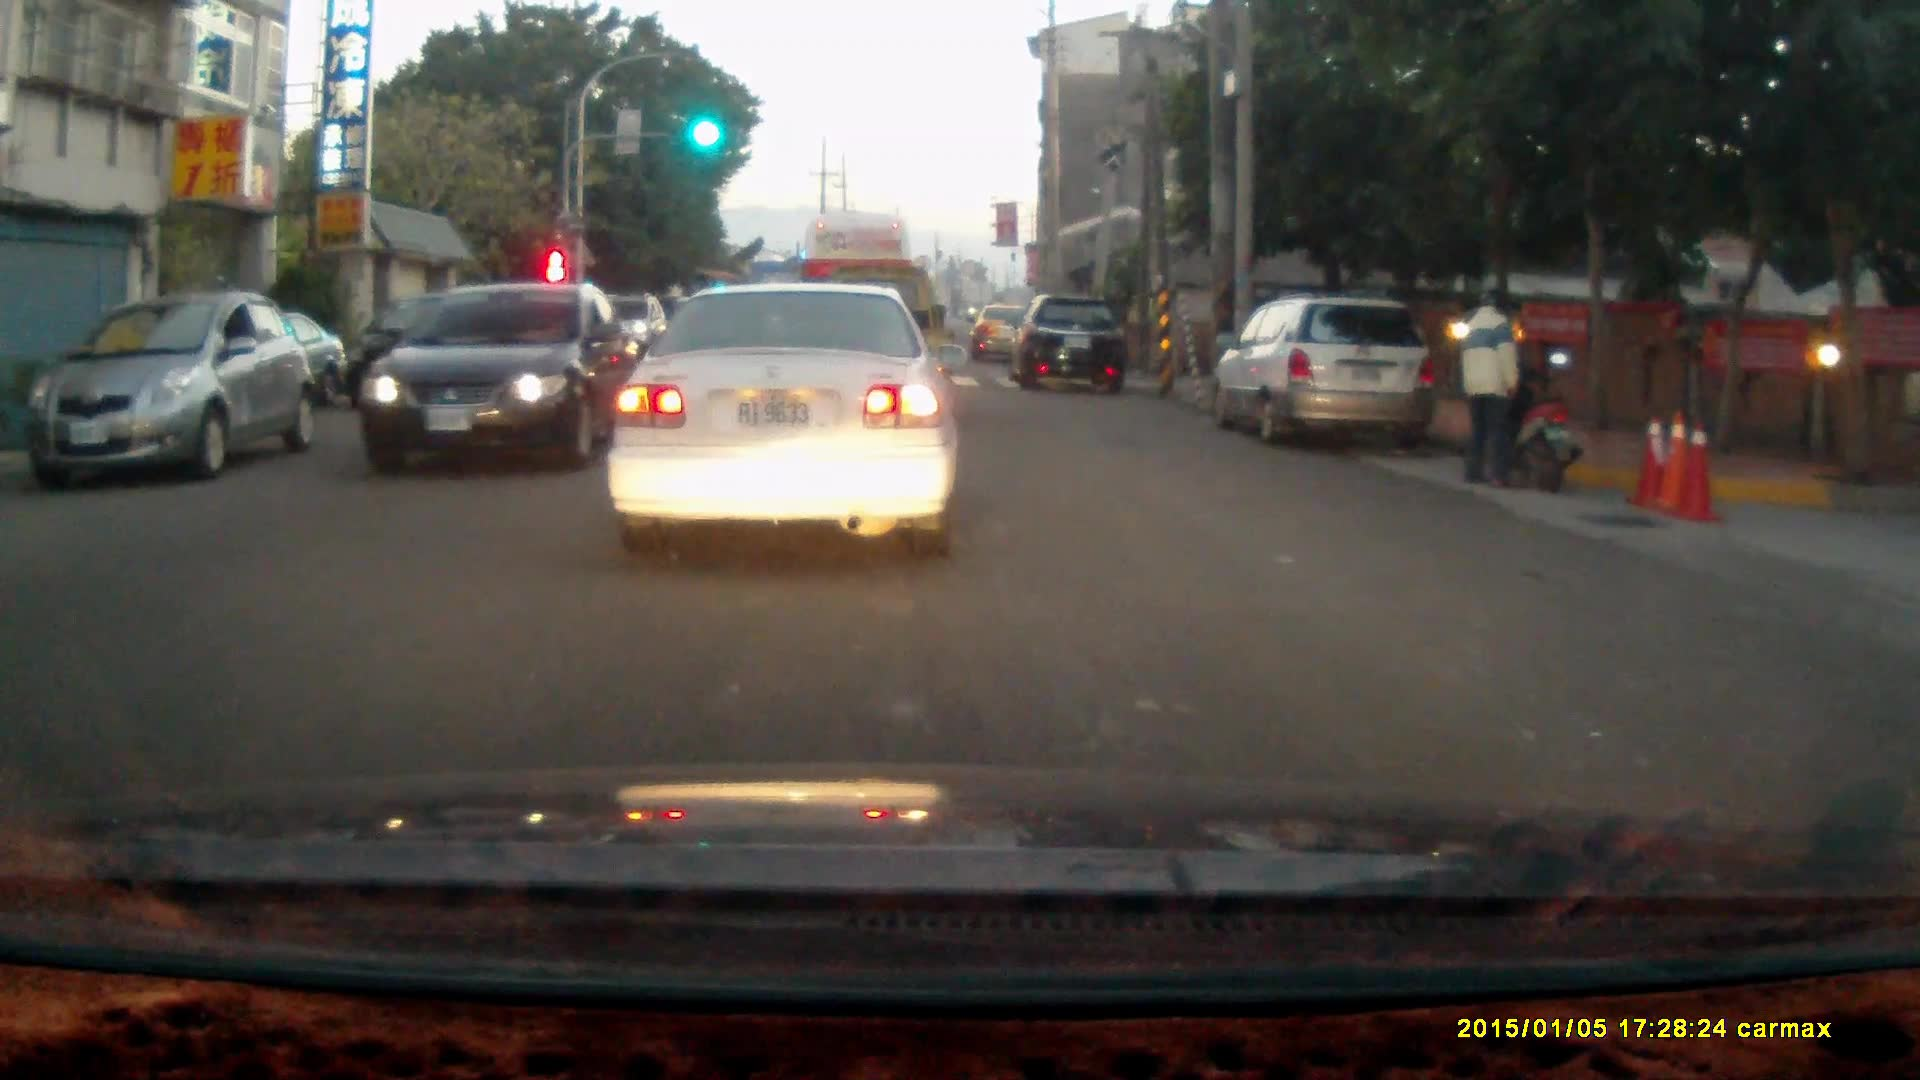pedestrian: (1454, 284, 1524, 489)
vehicle: (609, 273, 962, 550), (31, 293, 320, 481), (366, 281, 646, 473), (1223, 298, 1439, 452), (800, 210, 917, 378), (1015, 293, 1138, 397)
